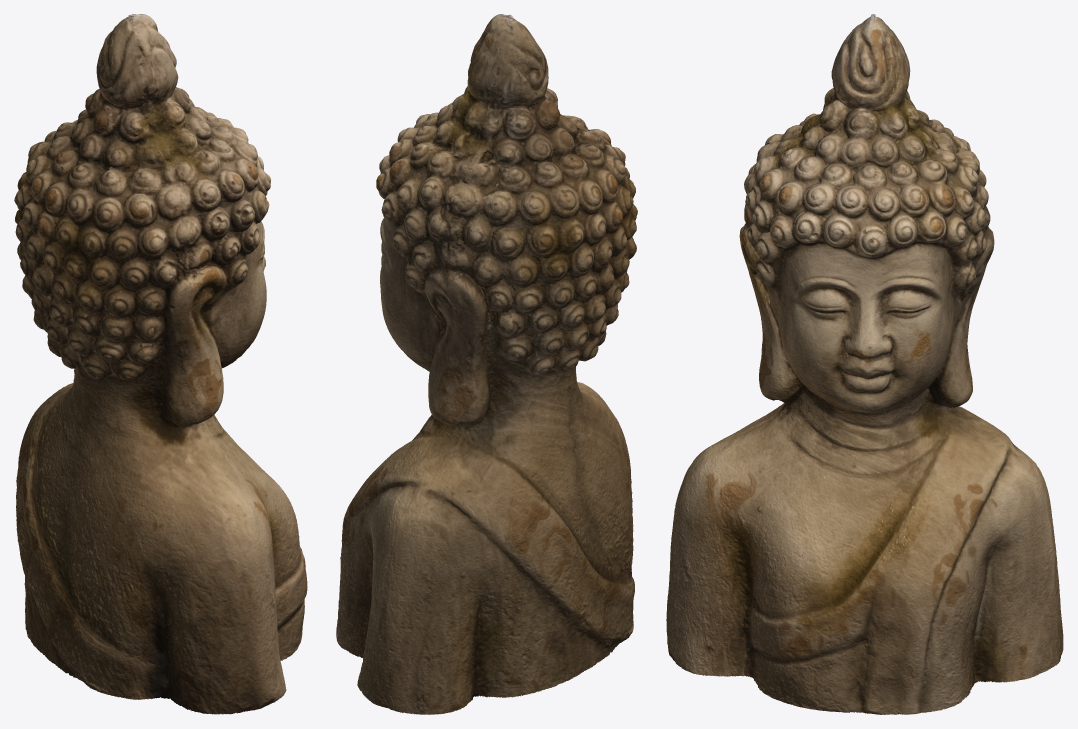
File: Buddha 3D.fbx
The picture shows the model from 3 angles, left to right: view 1: azimuth 30°, elevation 25°; view 2: azimuth 150°, elevation 25°; view 3: azimuth 270°, elevation 25°; orthographic projection.
Parts seen in each view (by area): view 1: Buda; view 2: Buda; view 3: Buda.
Boxes of the visible parts, x1,y1,x2,y2 form: Buda: (14,14,307,714); Buda: (336,14,637,714); Buda: (666,14,1063,714).
Bounding box in the file's own units: 649 × 1551 × 887.
